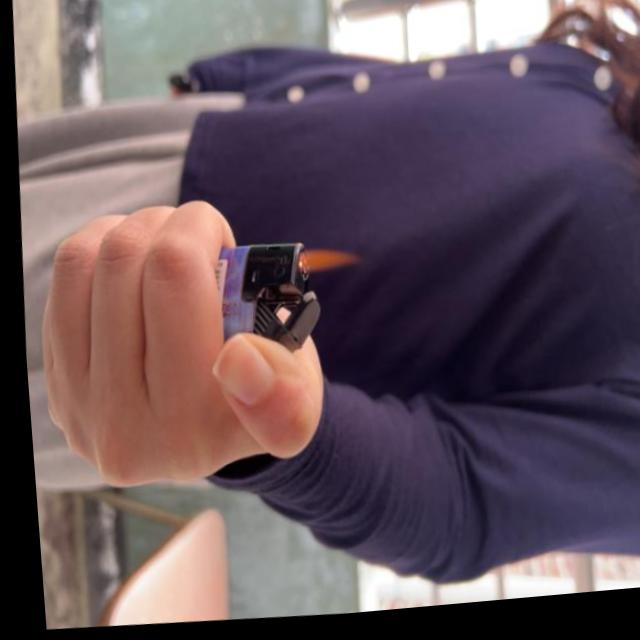Fire: (289, 250, 360, 282)
